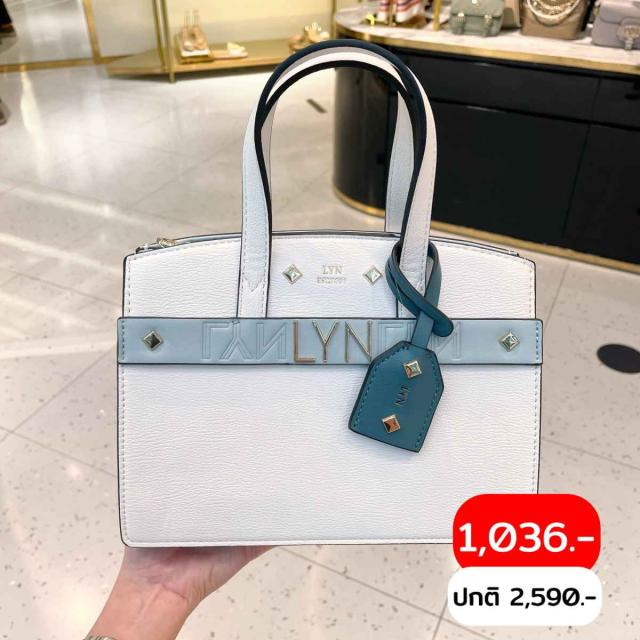Handbag: (108, 188, 541, 554)
